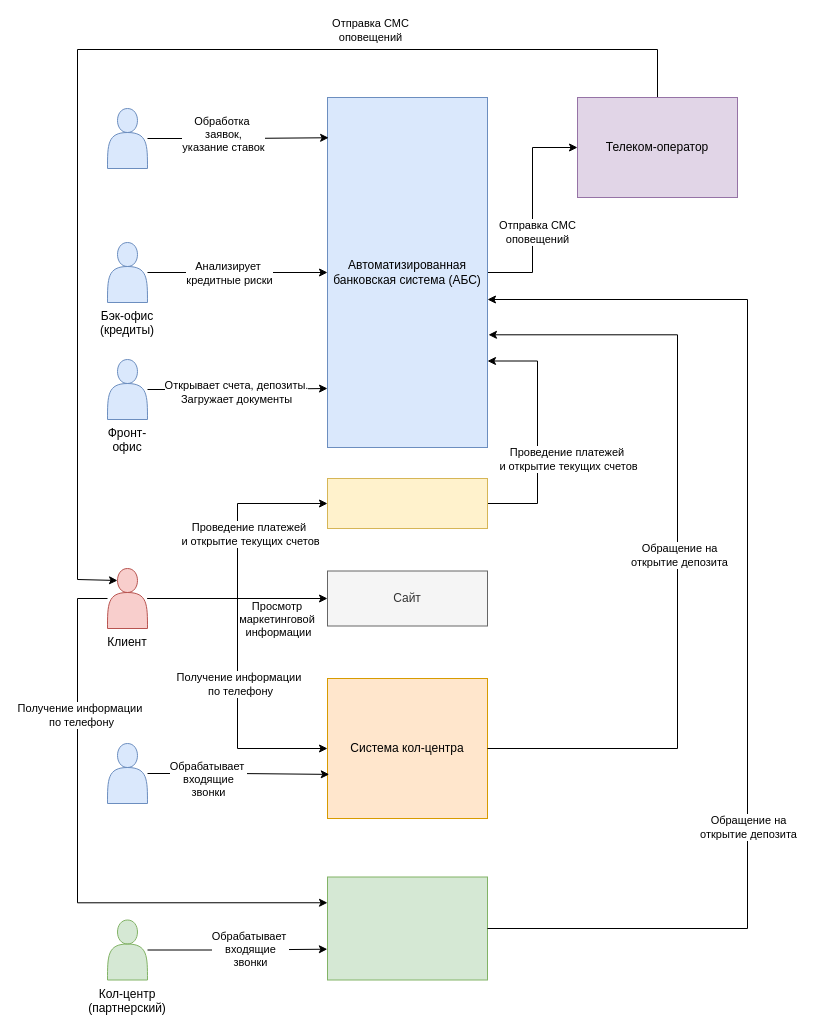
The diagram is 814 pixels wide and 1033 high, and some of its shapes have lost their labels. Each missing label, with the centre of its shape:
Бэк-офис (депозиты): the point at 127,138
Интернет-банк: the point at 407,503
Кол-центр: the point at 127,773
Система партнёрского кол-центра: the point at 407,928
